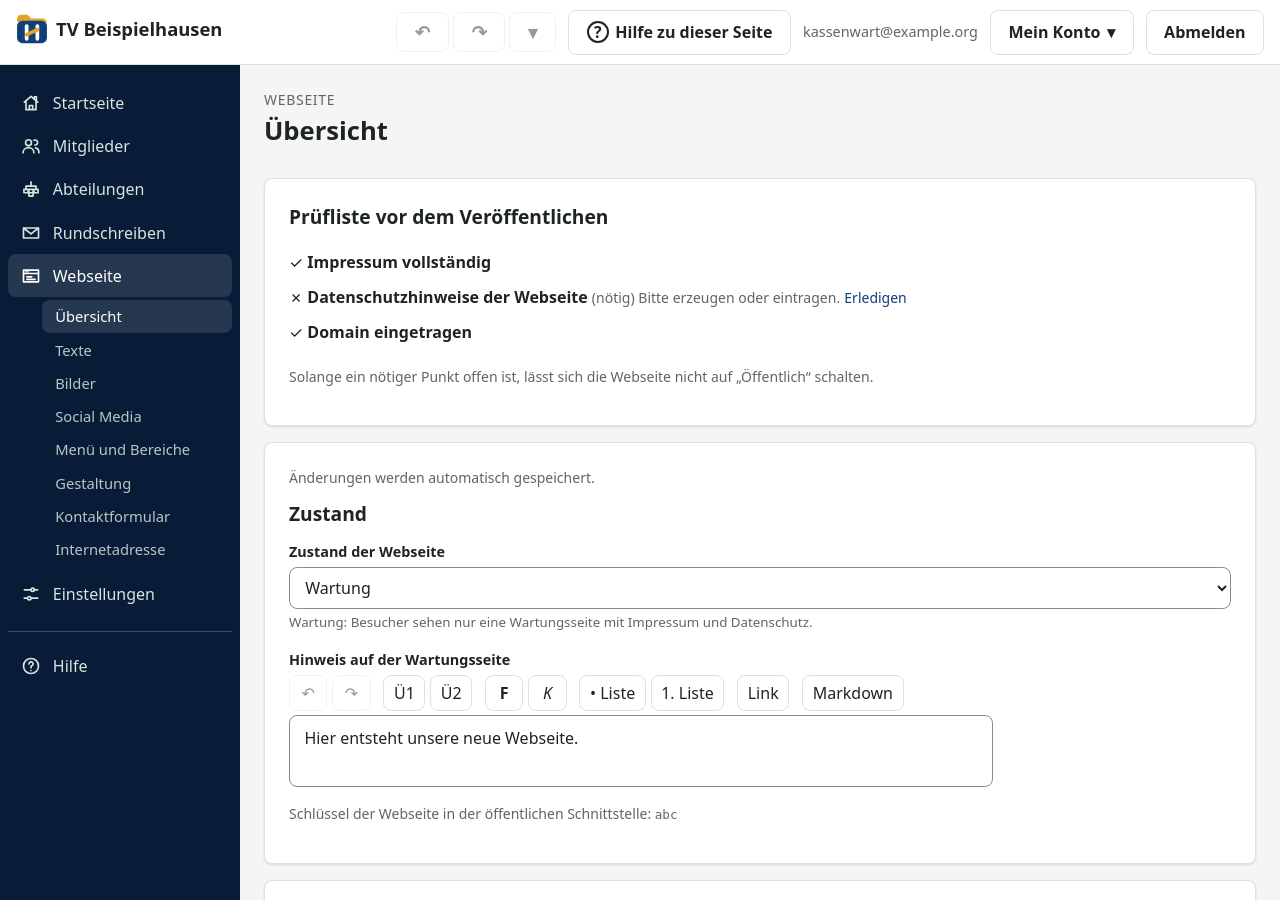
Test case: Webseite › zeigt die Prüfliste und erzeugt die Datenschutzhinweise
Expected: the heading "Prüfliste vor dem Veröffentlichen" is shown, x1=289 y1=203 x2=608 y2=230
Expected: the text "(nötig) Bitte erzeugen oder eintragen." is shown, x1=592 y1=288 x2=840 y2=307
Die Prüfliste führt direkt zu Einstellungen › Datenschutz
Step 1. Click the link "Erledigen" → (876, 297), box x1=844 y1=288 x2=907 y2=307
(page scrolled)
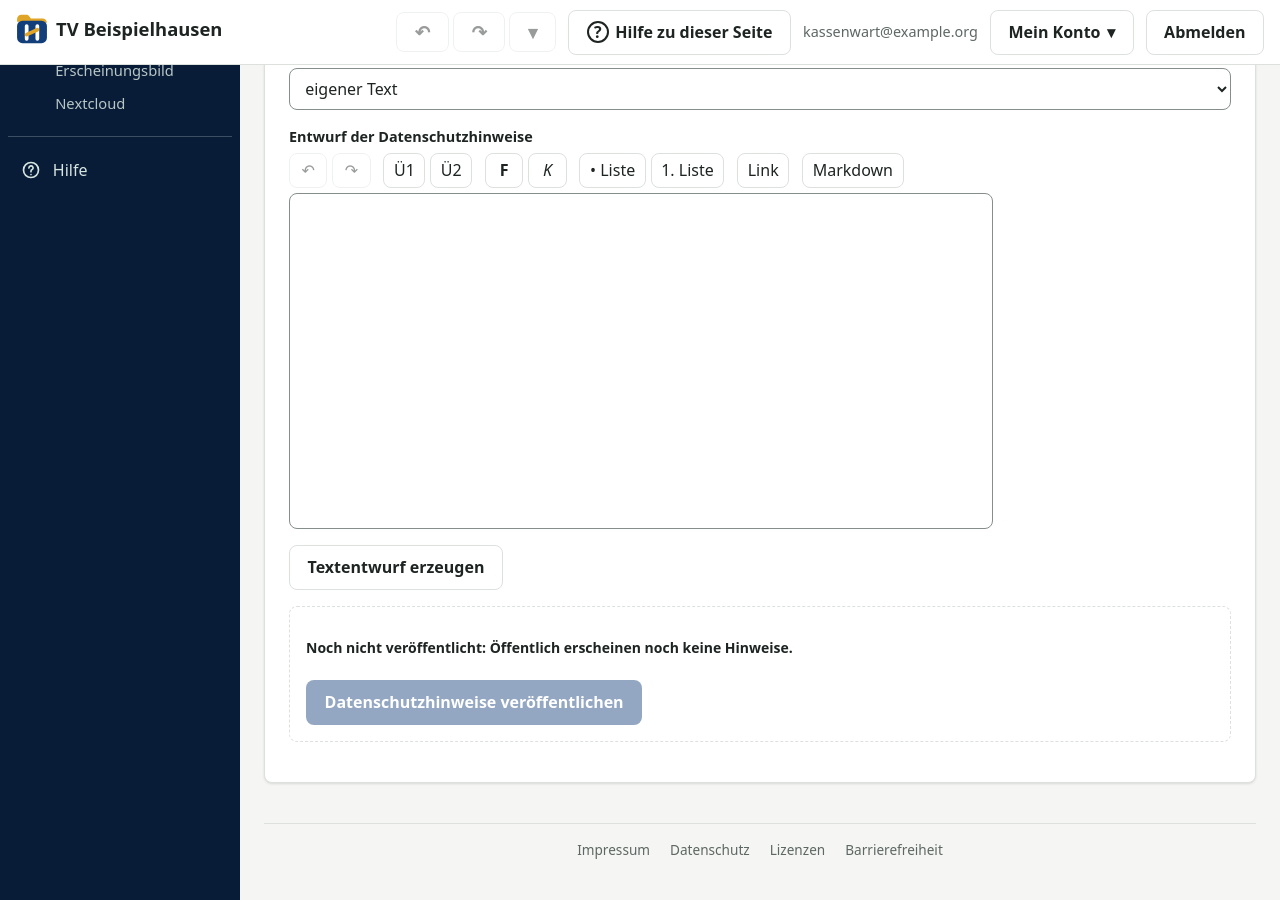
Step 2. Click the button "Textentwurf erzeugen" → (396, 567), box x1=289 y1=544 x2=503 y2=590
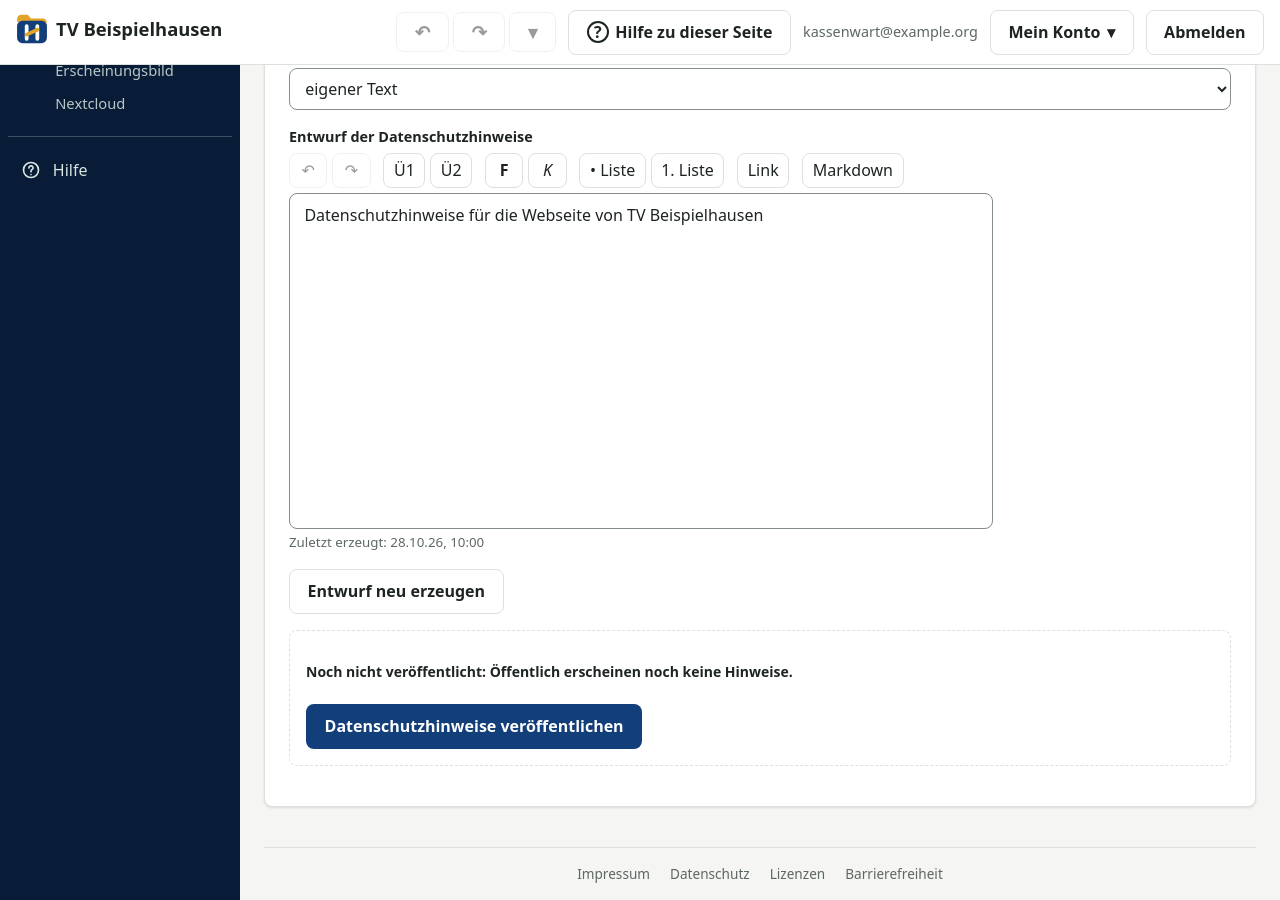
Expected: the field named "Entwurf der Datenschutzhinweise" reads "Datenschutzhinweise für die Webseite von TV Beispielhausen", x1=289 y1=192 x2=993 y2=528
